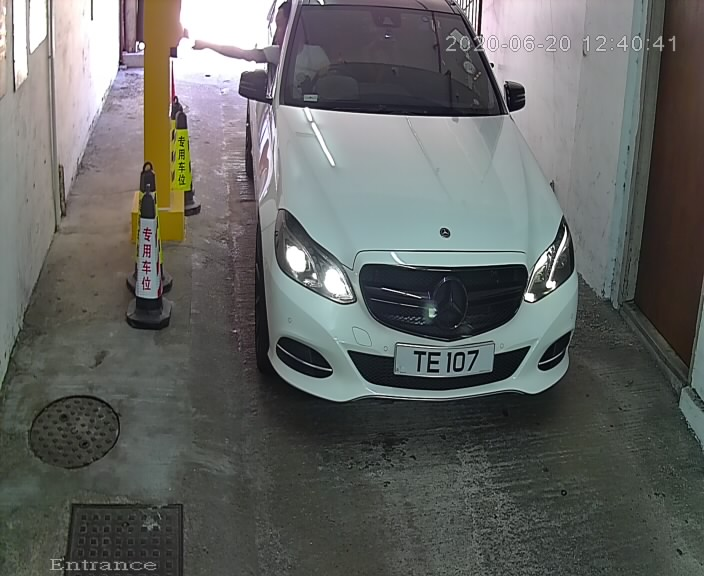privatecar: (234, 3, 586, 429)
